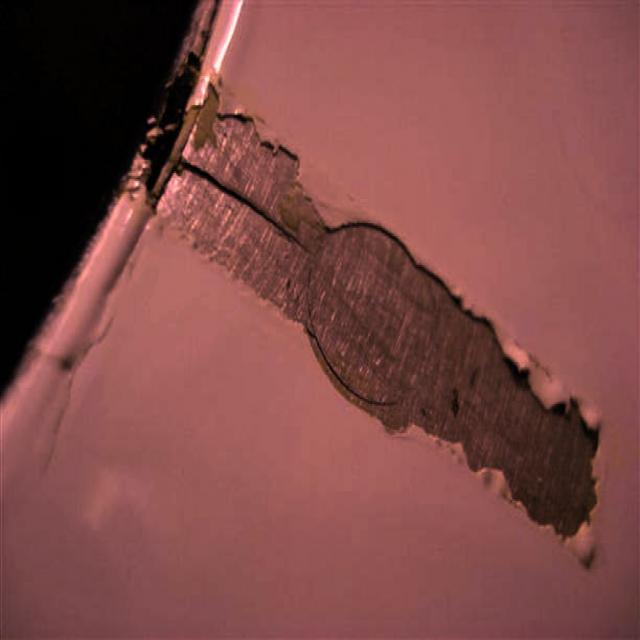crack: (154, 139, 318, 263)
